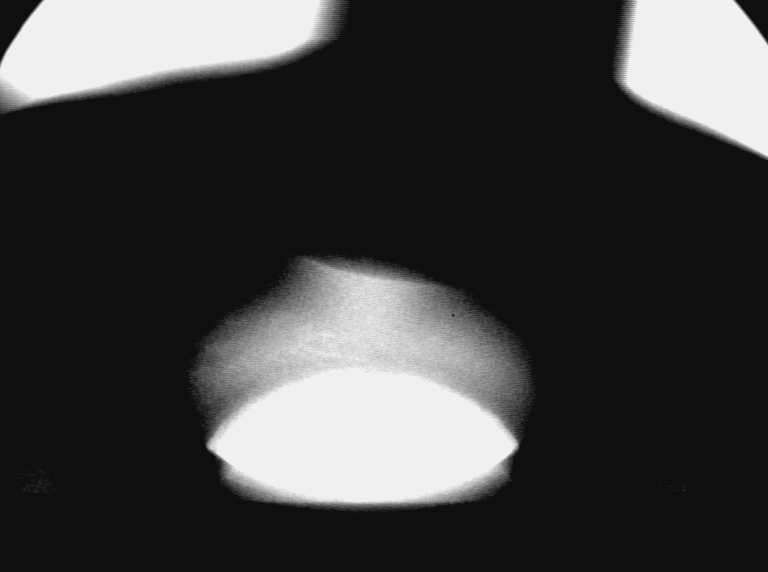defect: (301, 244, 464, 313)
